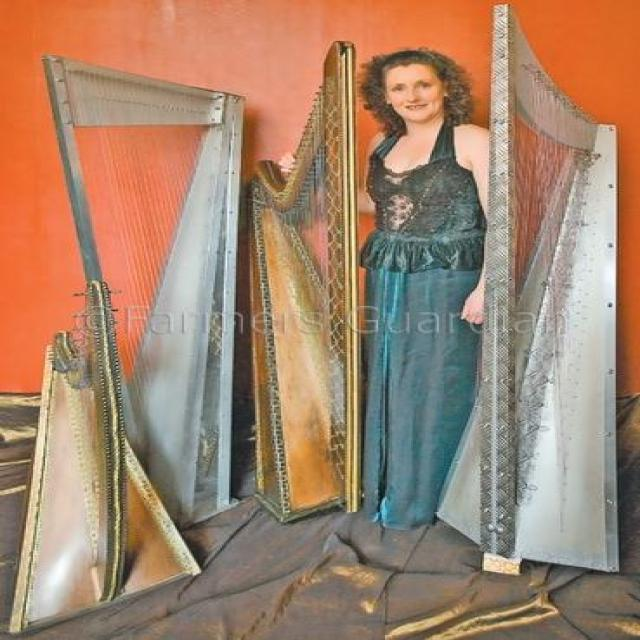harp: (25, 47, 255, 592), (425, 1, 623, 582), (233, 32, 366, 527)
